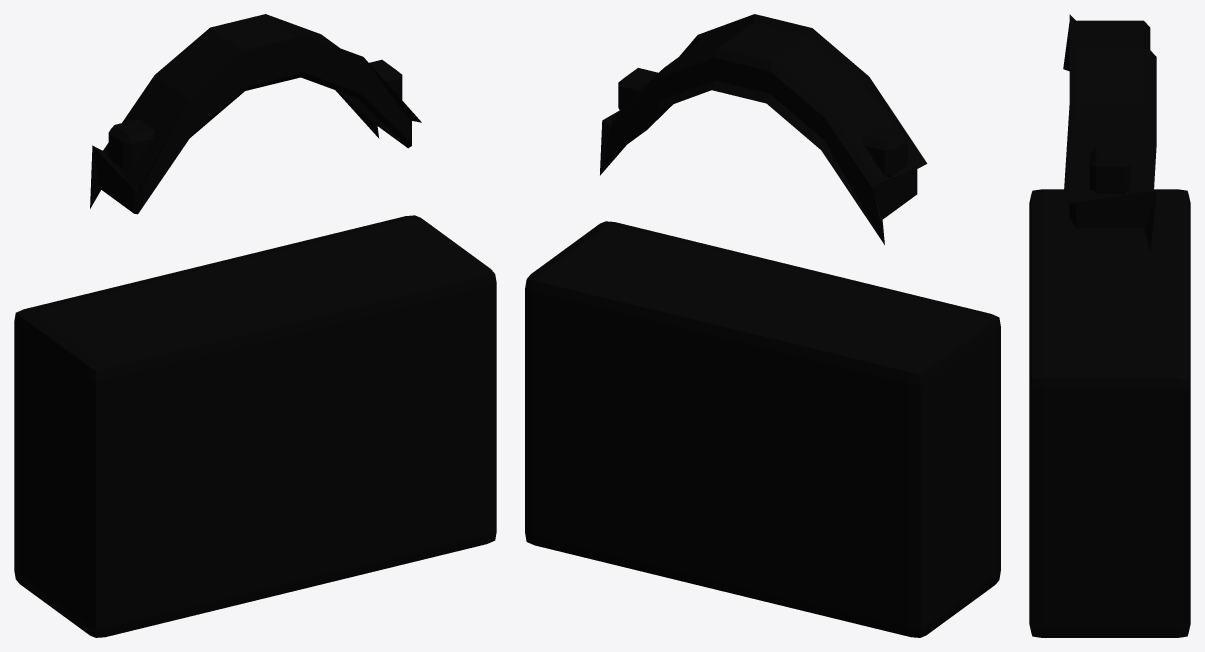
File: medkit.glb
The picture shows the model from 3 angles, left to right: view 1: azimuth 30°, elevation 25°; view 2: azimuth 150°, elevation 25°; view 3: azimuth 270°, elevation 25°; orthographic projection. The views are drawn at different scales.
Parts seen in each view (by area): view 1: medkit_body, medkit_handle; view 2: medkit_body, medkit_handle; view 3: medkit_body, medkit_handle.
Part boxes in pixels (box(x1,y1,x2,y2)): medkit_body: box(14, 215, 496, 637); medkit_handle: box(90, 14, 421, 214); medkit_body: box(525, 221, 1000, 637); medkit_handle: box(600, 14, 927, 244); medkit_body: box(1029, 189, 1190, 637); medkit_handle: box(1063, 14, 1156, 251).
Size of the model in its own units: 0.14 by 0.1769 by 0.05.
Materials: 2 (2 with a texture image).
